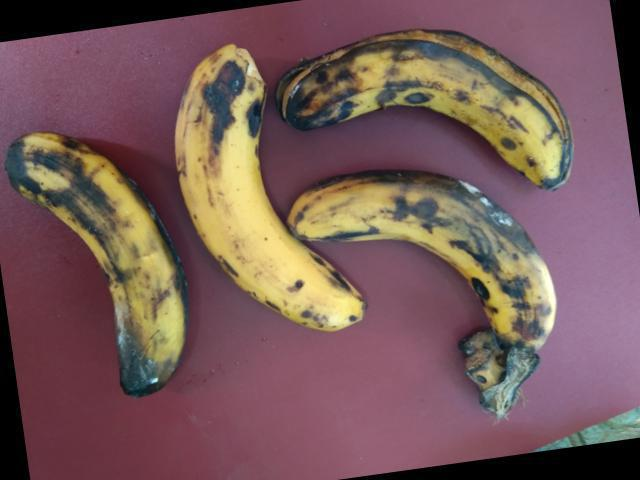overripe: (165, 35, 361, 355)
rotten: (292, 165, 568, 391), (276, 15, 593, 187), (17, 115, 187, 406)
